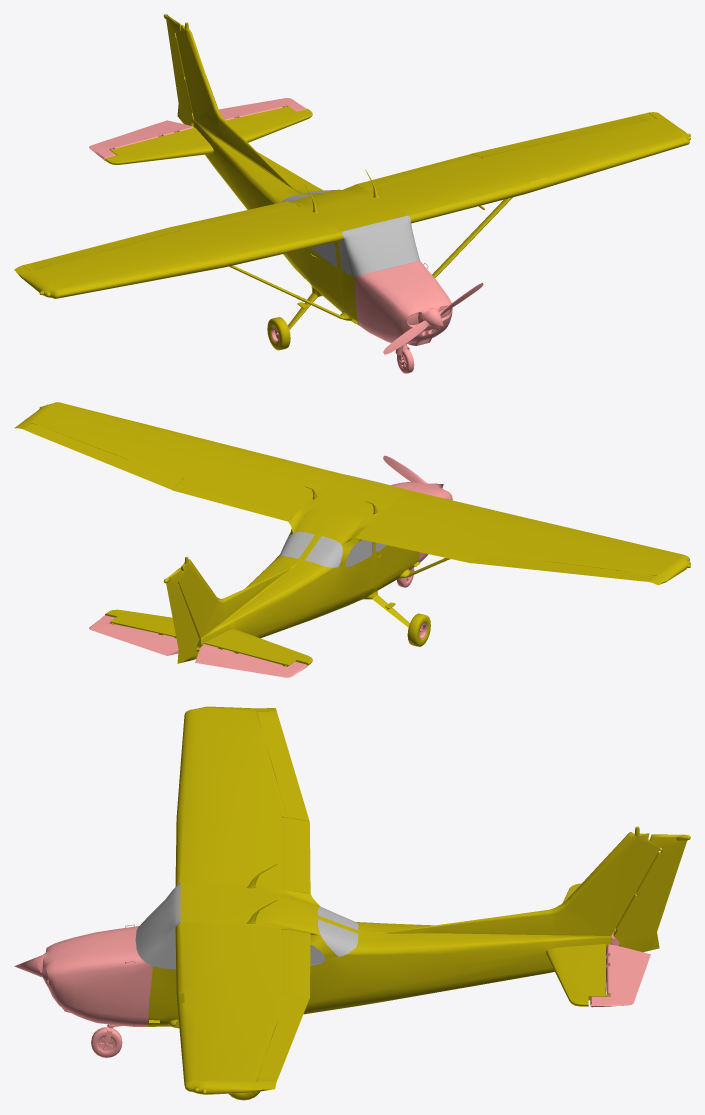
File: cessna172.glb
3 renders of one model, top to bottom at view 1: azimuth 30°, elevation 25°; view 2: azimuth 150°, elevation 25°; view 3: azimuth 270°, elevation 25°, orthographic. The views are drawn at different scales.
Visible parts, largest first — view 1: fuselage; view 2: fuselage; view 3: fuselage.
Part boxes in pixels (<box>): fuselage: <box>14,14,690,373</box>; fuselage: <box>14,402,690,677</box>; fuselage: <box>14,706,690,1100</box>.
Bounding box in the file's own units: 4.39 × 1.22 × 3.26.
